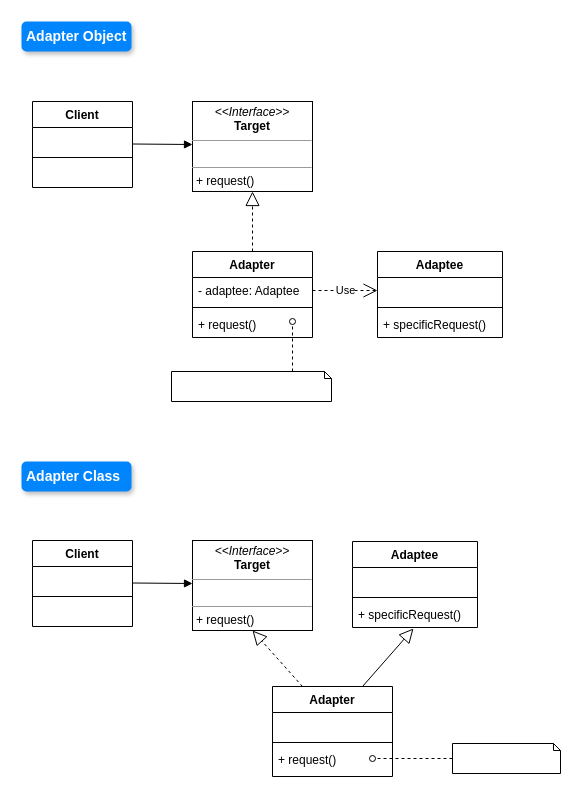
Image size: 578x796. Some labels were removed from this diagram. The shapes that lost their labels are listed below. From the top down, each one's centre as x and y in pixels, then its label:
(x=251, y=386): adaptee.specificRequest()
(x=506, y=758): specificRequest()
